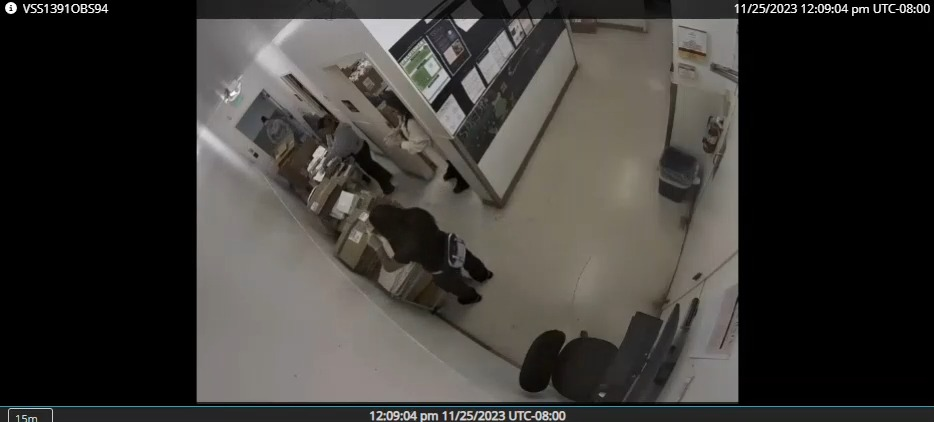gloves: (363, 231, 392, 263)
